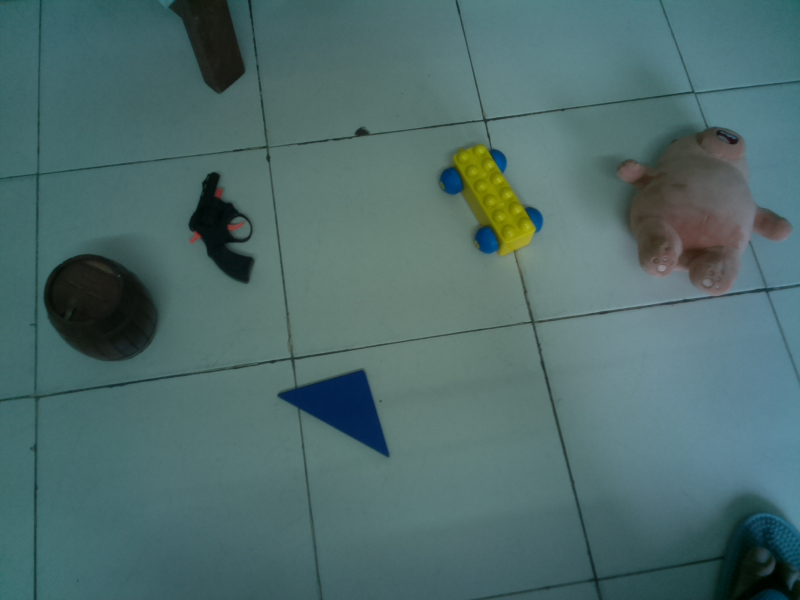Gun: (182, 166, 261, 288)
Triangle: (276, 362, 397, 461)
toy_Car: (435, 134, 547, 261)
